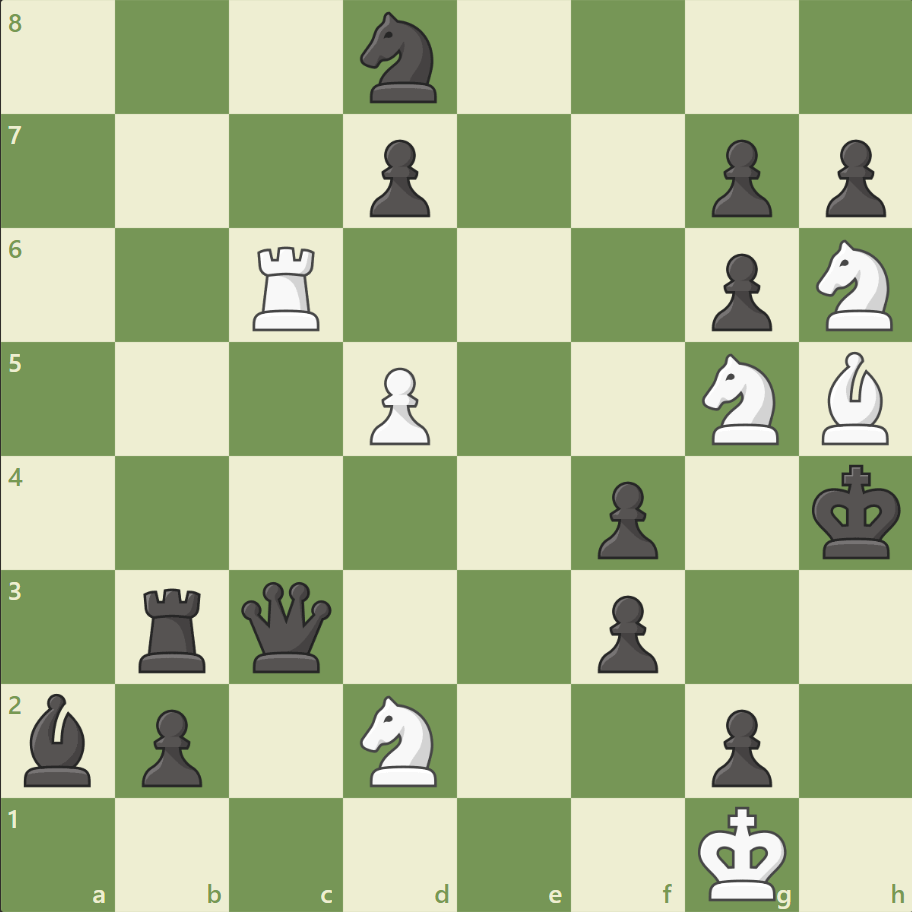B: (812, 347, 896, 449)
K: (692, 798, 792, 906)
N: (351, 688, 449, 791), (806, 234, 903, 337), (692, 348, 789, 450)
P: (361, 359, 435, 450)
R: (246, 239, 329, 336)
b: (17, 687, 101, 790)
k: (806, 458, 906, 566)
n: (351, 7, 449, 110)
p: (701, 132, 776, 223), (701, 246, 776, 337), (133, 700, 208, 791), (701, 700, 776, 791), (361, 132, 435, 223), (815, 132, 889, 223), (588, 473, 662, 564), (588, 586, 662, 677)
q: (237, 576, 336, 676)
r: (133, 579, 215, 676)
